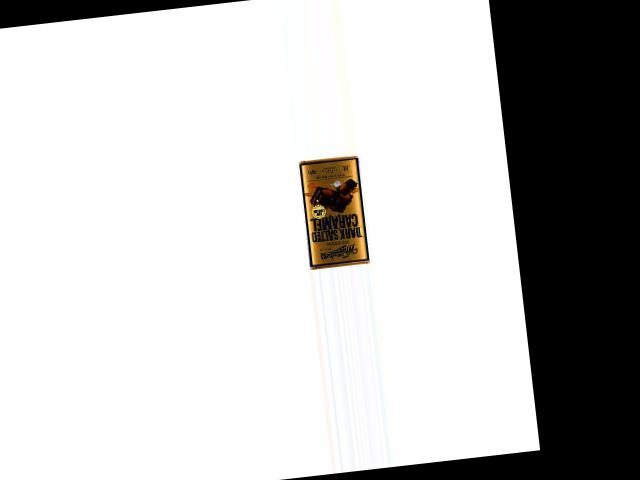chocolate: (293, 152, 371, 269)
